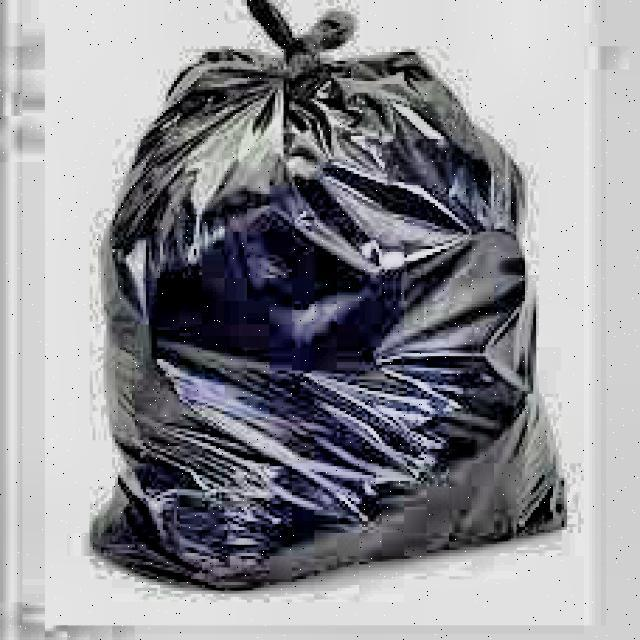Trashbag: (75, 32, 579, 593)
